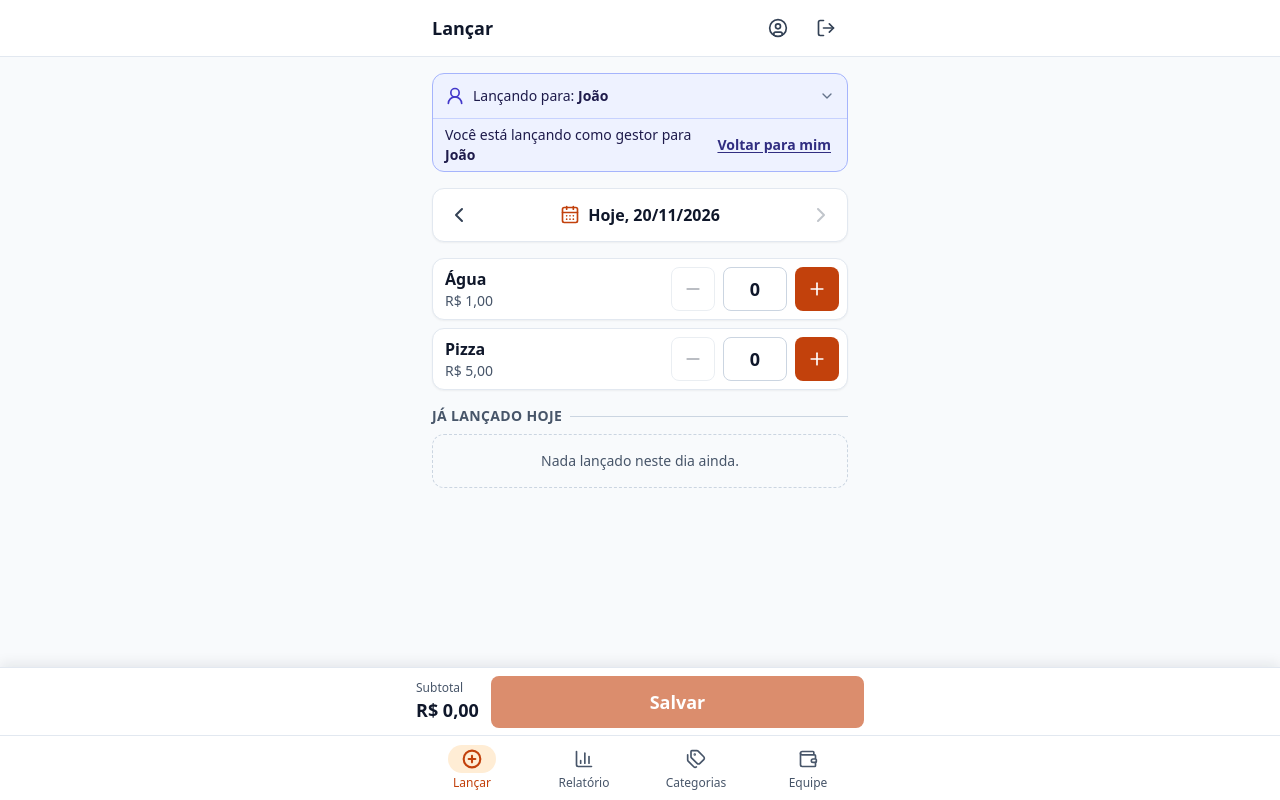
Test: gestor lança, ajusta categorias e vê relatório de outro atendente › lança 5 Pizzas para o João: insert com user_id do João, lista do João e selo "por Maria"
This screenshot has width=1280, height=800.
Replace the text in the field named "Pizza" in the row of "Pizza" with "5": (755, 359) [723,337,787,381]
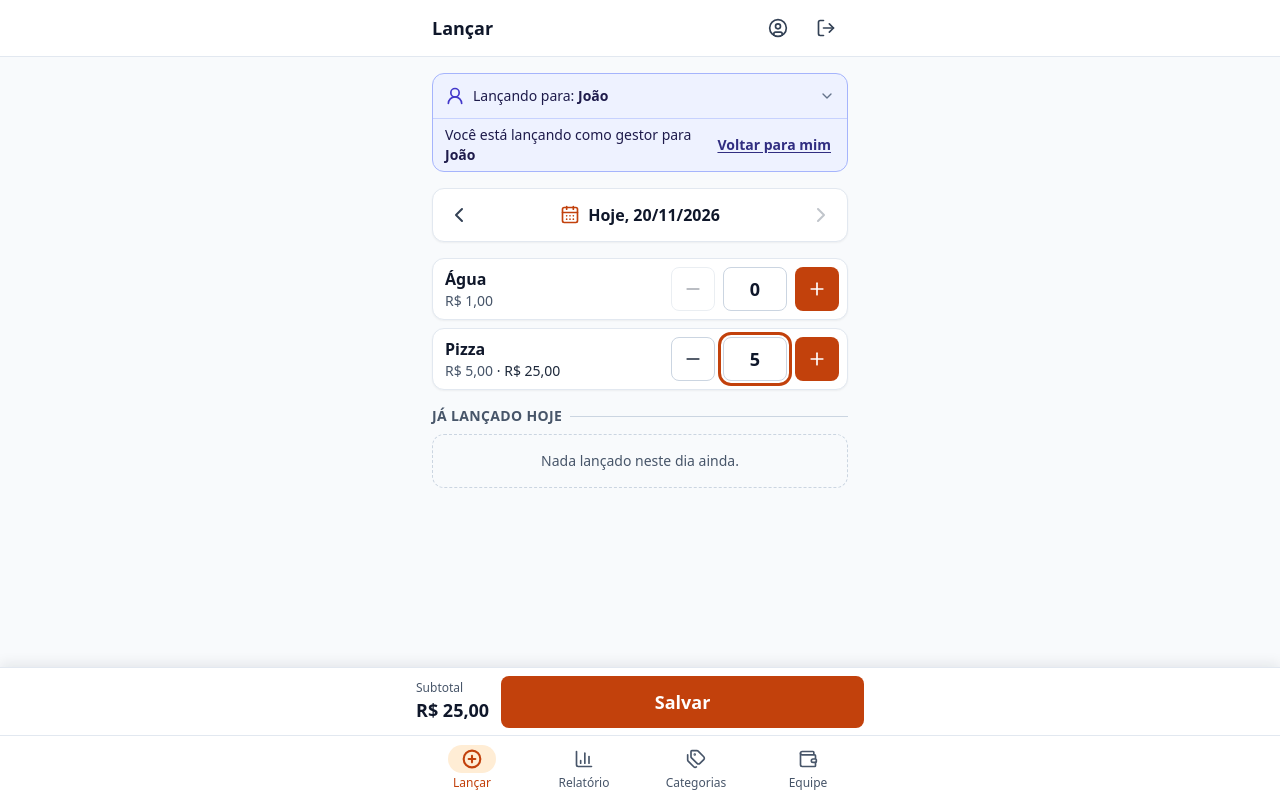
Click the button "Salvar": click(683, 702) [501,676,864,728]
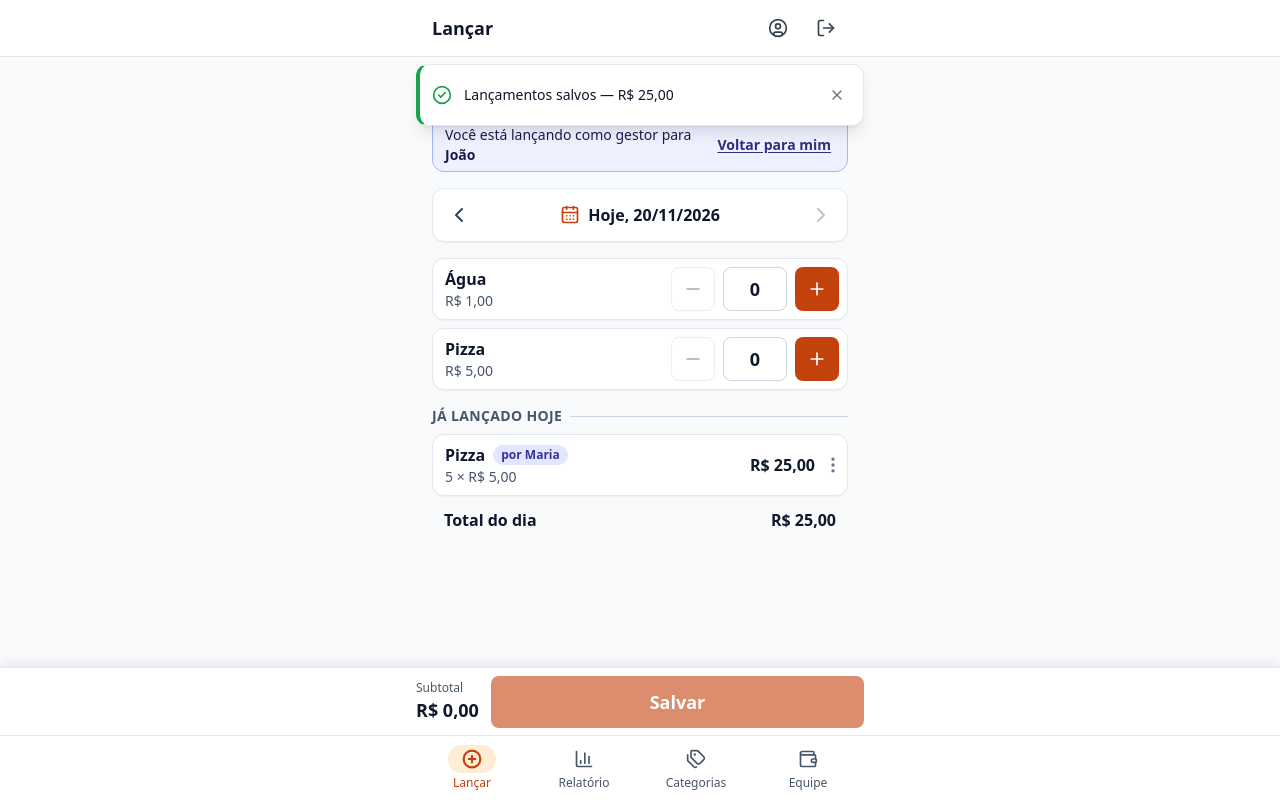
Result: the text "Lançamentos salvos — R$ 25,00" is shown at [464,85,674,104]
Result: the text with test id "selo-autor" reads "por Maria" at [493,445,568,465]
